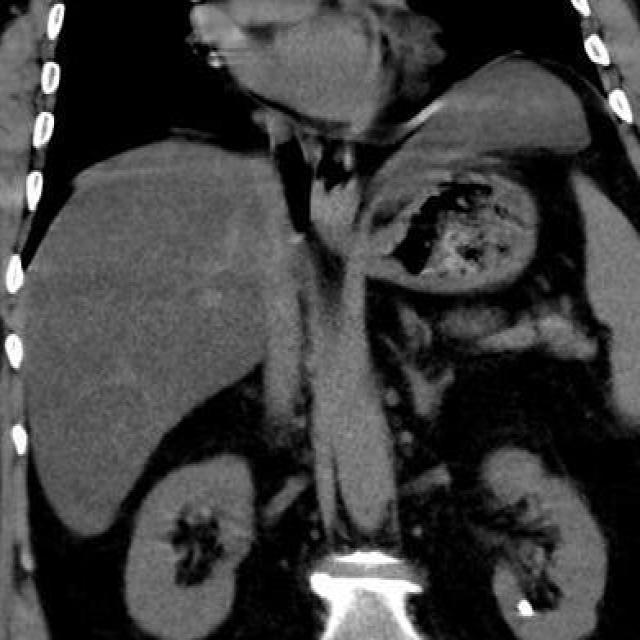Tas_Var: (515, 597, 536, 619)
